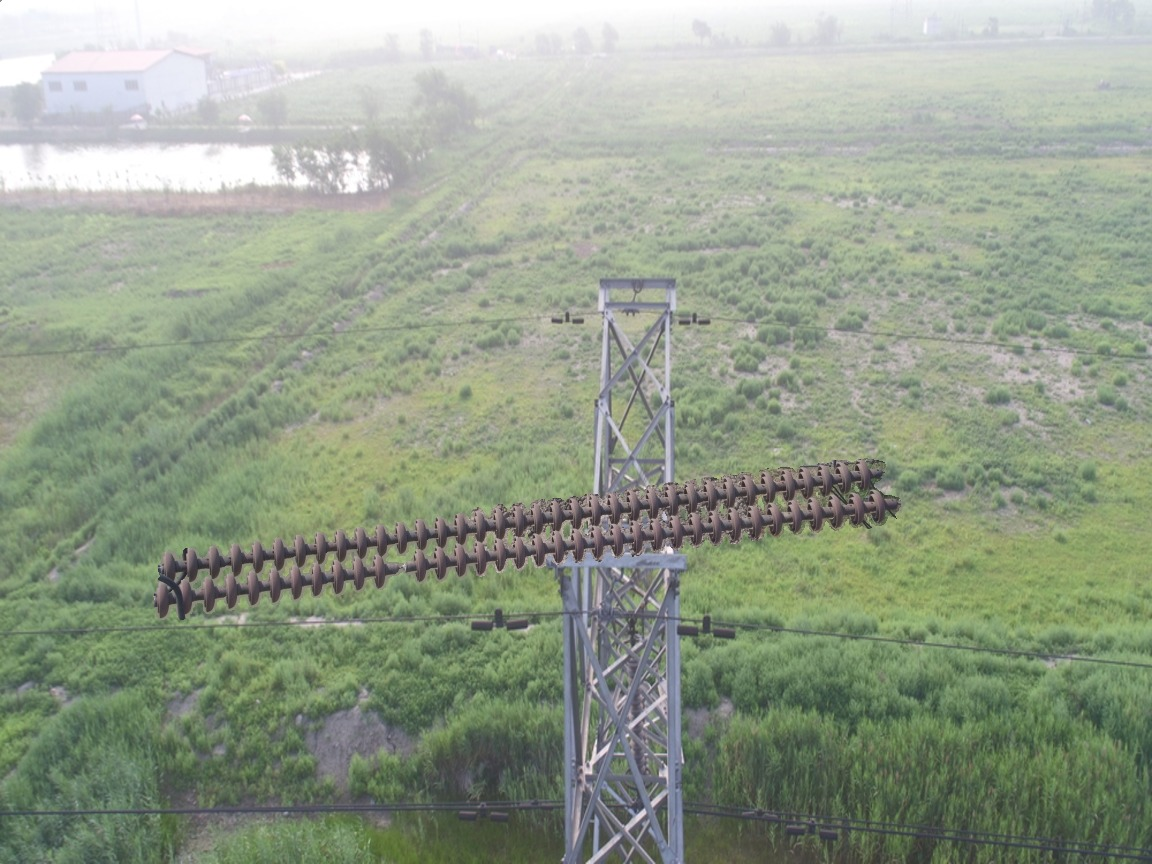defect: (366, 544, 434, 590)
